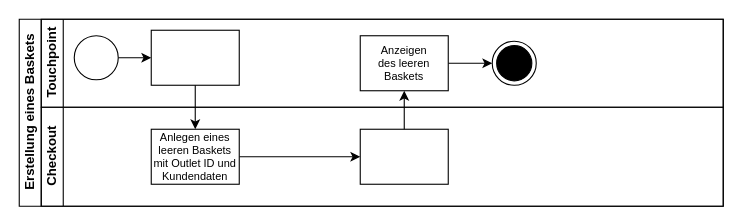
This 741x224 diagram has some shape labels left out. Each missing label, with the box of its shape:
Erstellen eines Baskets für neuen Kunden: (150, 29, 239, 85)
Persistierung des Baskets: (359, 128, 448, 184)
